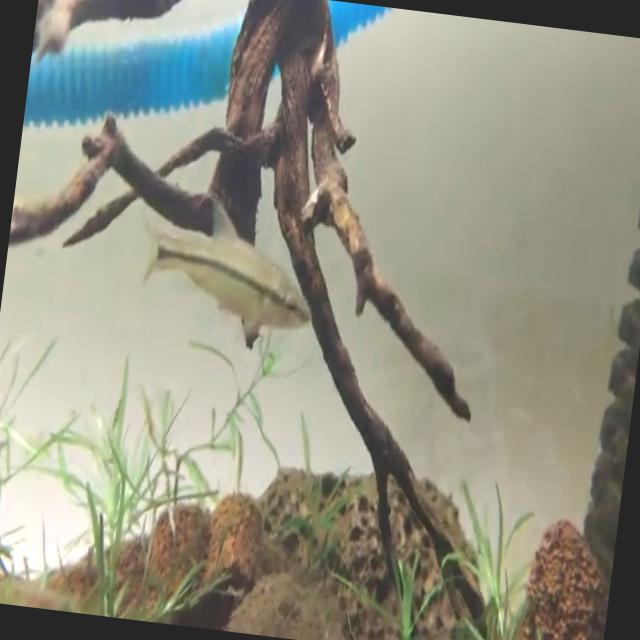Cakil Baligi: (131, 194, 324, 358)
